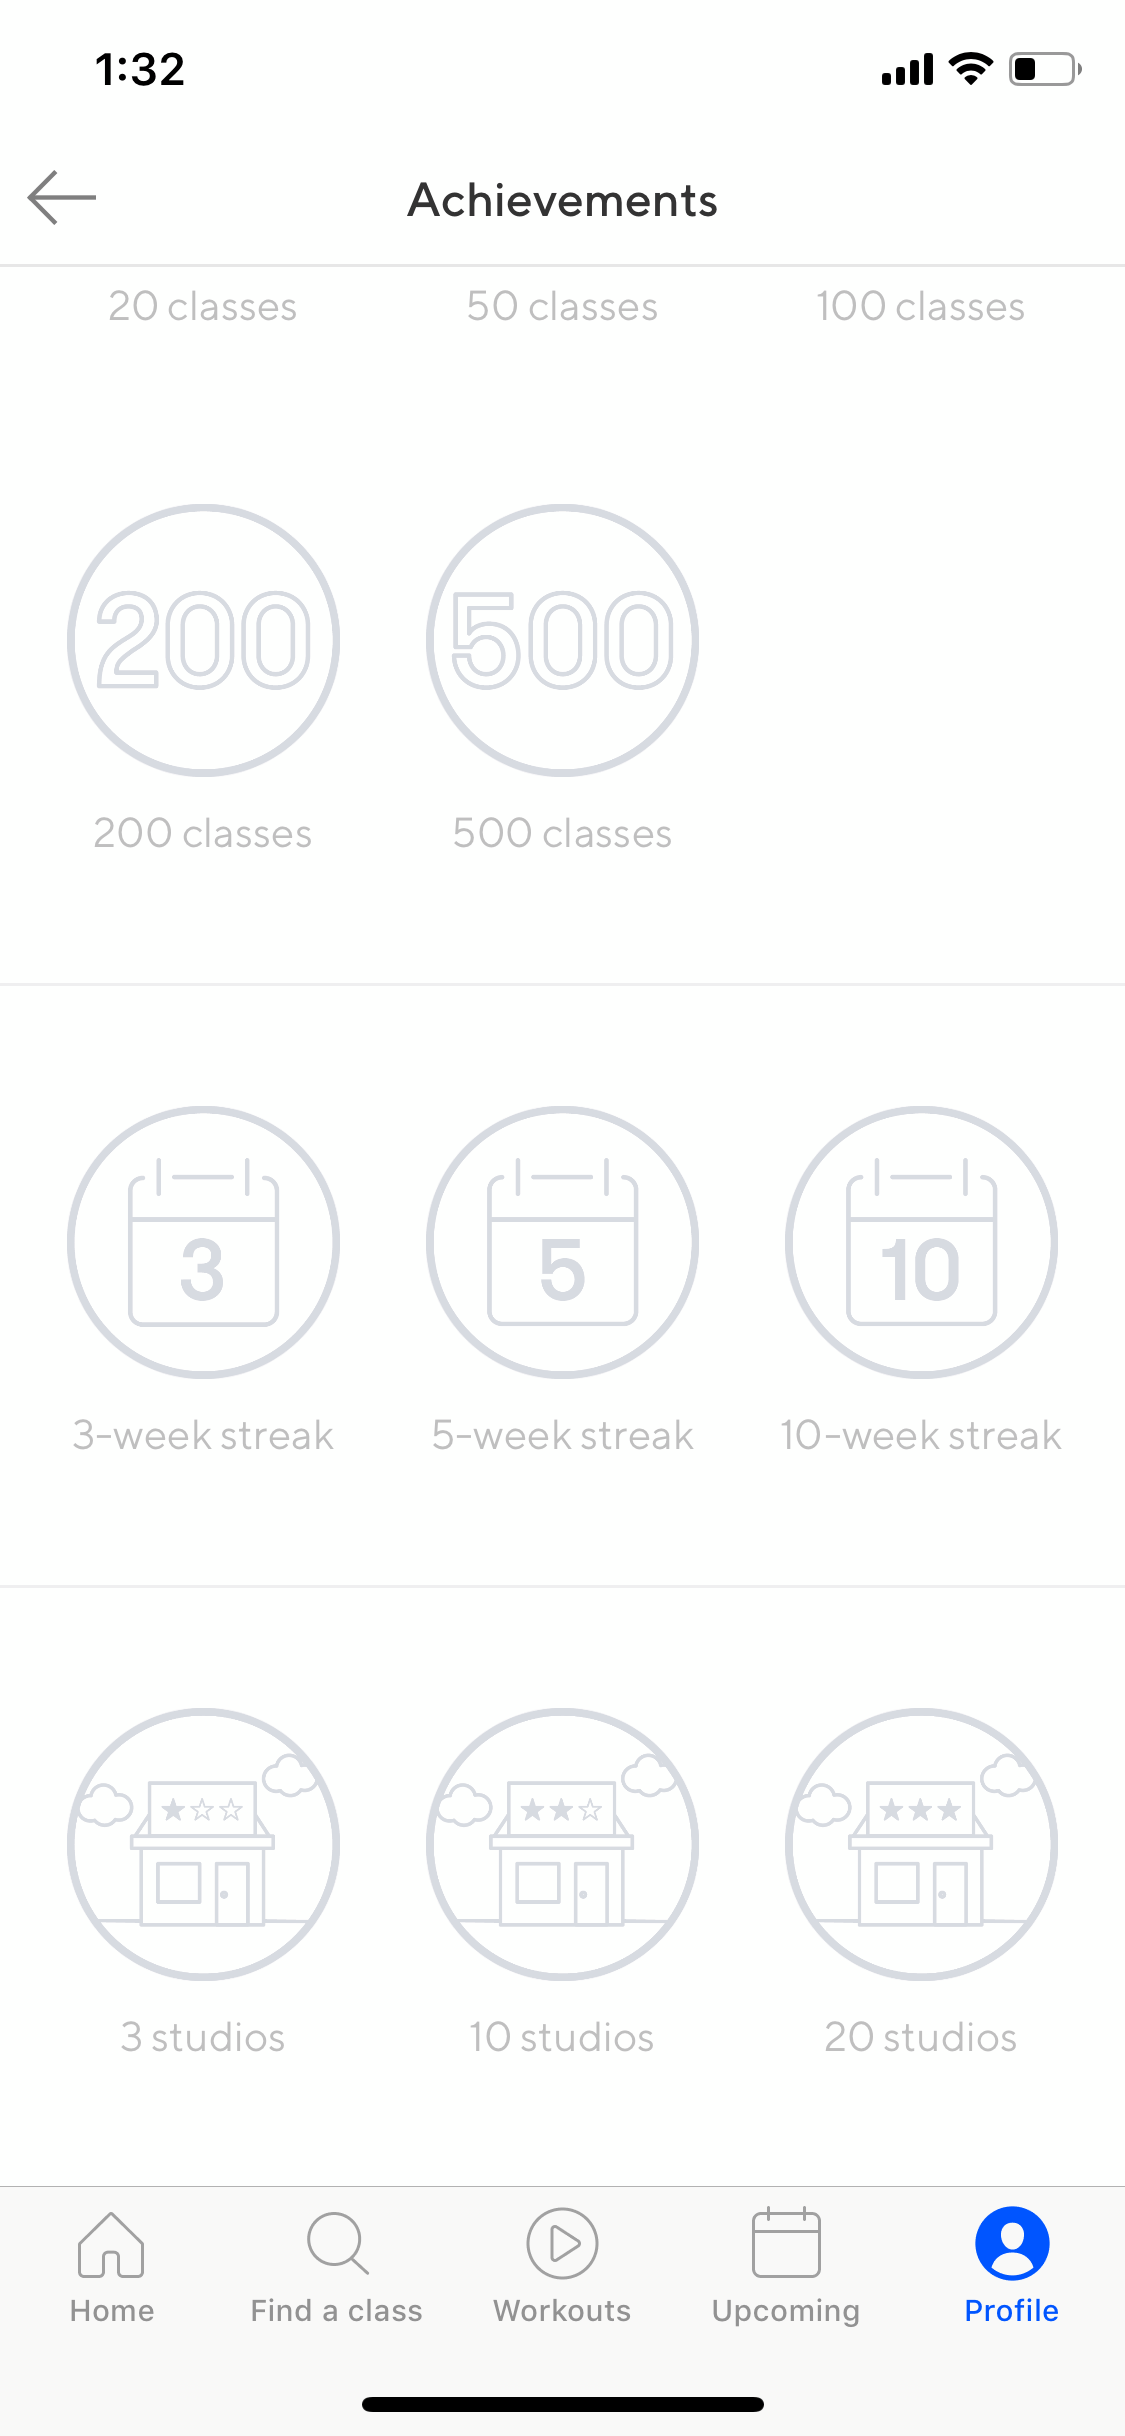Buttons: (2, 134, 118, 253)
